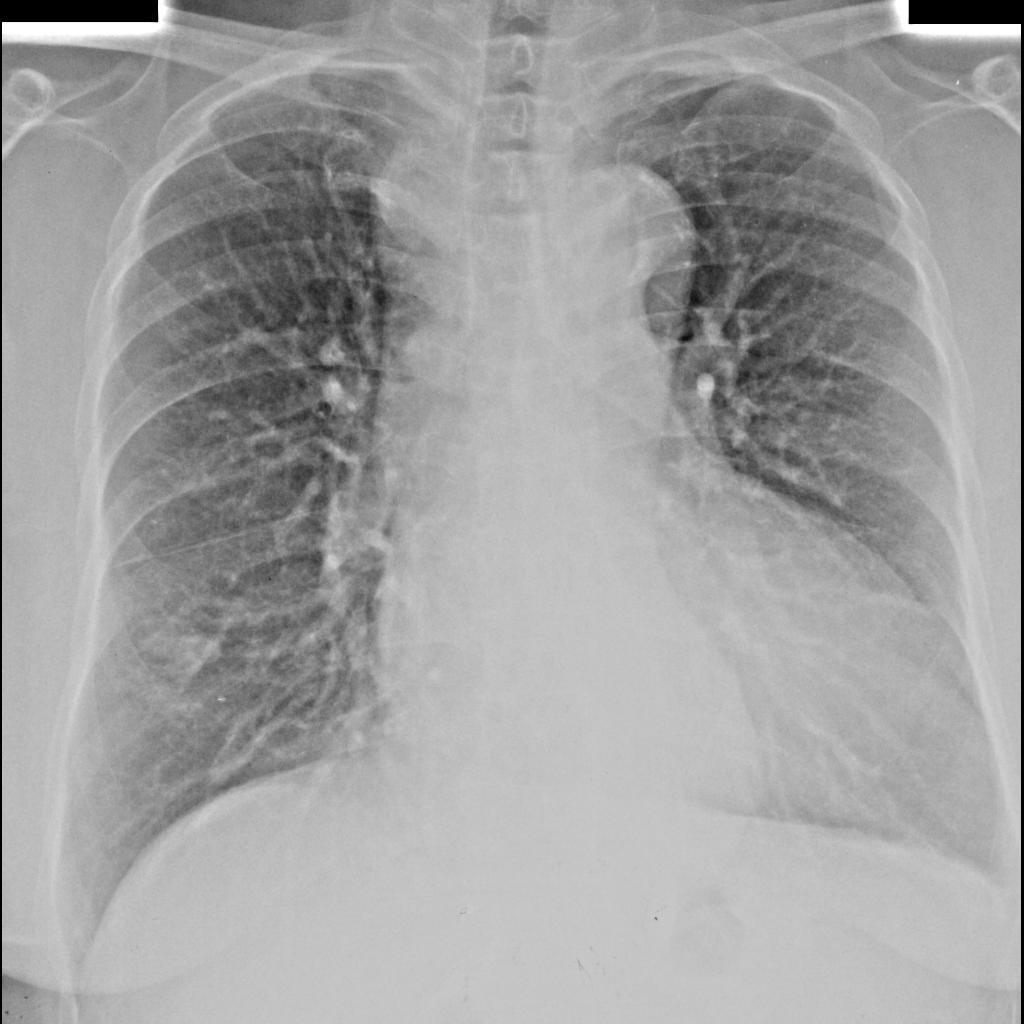Nodule: (150, 620, 220, 690)
